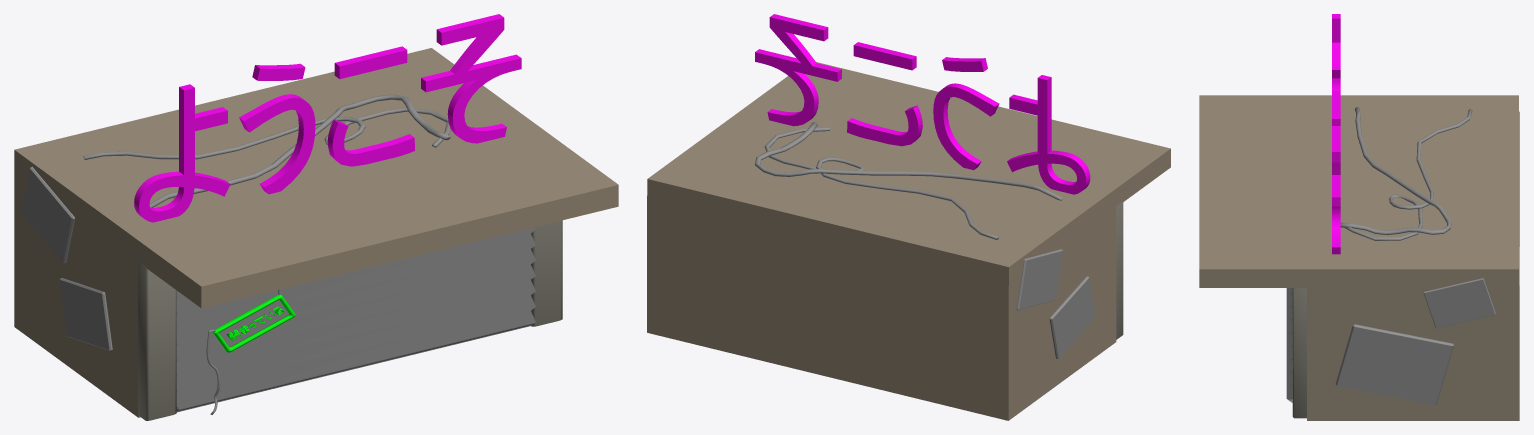
Rendered from closed Building pivot fix.fbx.
The picture shows the model from 3 angles, left to right: view 1: azimuth 30°, elevation 25°; view 2: azimuth 150°, elevation 25°; view 3: azimuth 270°, elevation 25°; orthographic projection. The views are drawn at different scales.
Visible parts, largest first — view 1: pink_emmisive1; view 2: pink_emmisive1; view 3: pink_emmisive1.
Boxes of the visible parts, bbox=[...] form: pink_emmisive1: bbox=[14, 14, 618, 420]; pink_emmisive1: bbox=[647, 14, 1170, 420]; pink_emmisive1: bbox=[1199, 14, 1519, 420].
Bounding box in the file's own units: 12.17 × 8.39 × 9.33.
